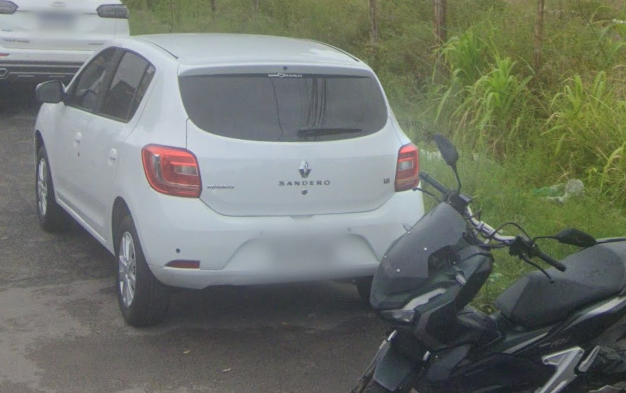car: (29, 32, 431, 327)
